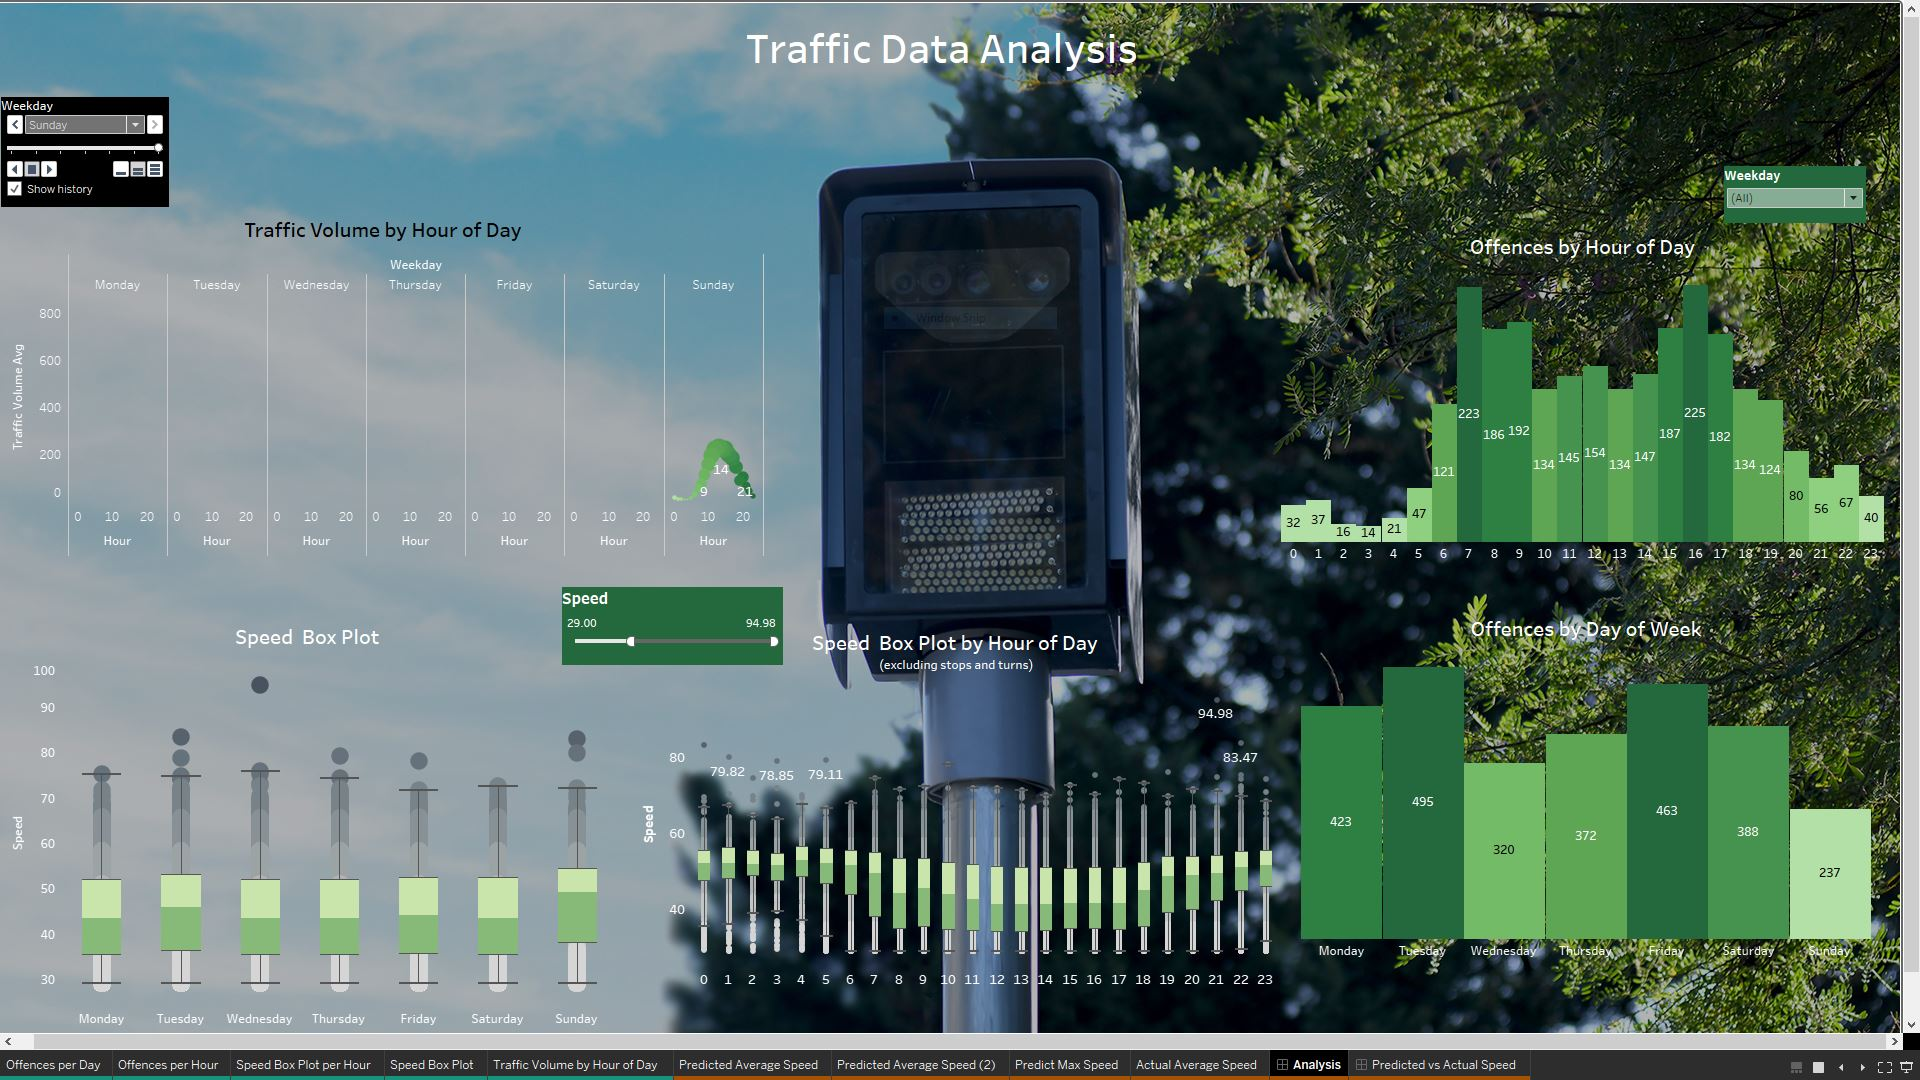

The dashboard page shown, as its layout file describes it:
{"tool":"tableau","page":{"name":"Analysis","canvas":[1920,1080],"ordinal":0},"visuals":[{"type":"image","param":"C:/Users/aleja/Downloads/Halo.jpg","box":[0,0,1920,1080]},{"type":"text","box":[2,8,1914,77]},{"type":"currpage","title":"Traffic Volume by Hour of Day","box":[18,97,168,110]},{"type":"filter","title":"Offences per Day","param":"[federated.1v8q8oz029prp91fazk9s0vociy0].[none:Weekday:nk]","box":[1741,166,142,57]},{"type":"worksheet","title":"Traffic Volume by Hour of Day","mark":"Circle","rows":["Calculation_51509949693874183"],"cols":["Weekday","Hour"],"box":[19,211,762,346]},{"type":"worksheet","title":"Offences per Hour","mark":"Automatic","rows":["Fine"],"cols":["Hour"],"box":[1298,228,603,335]},{"type":"filter","title":"Speed Box Plot per Hour","param":"[federated.1v8q8oz029prp91fazk9s0vociy0].[none:Speed:qk]","box":[579,587,221,78]},{"type":"worksheet","title":"Offences per Day","mark":"Automatic","rows":["Fine"],"cols":["Weekday"],"box":[1318,610,570,350]},{"type":"worksheet","title":"Speed Box Plot ","mark":"Circle","rows":["Speed"],"cols":["Weekday"],"box":[19,618,615,410]},{"type":"worksheet","title":"Speed Box Plot per Hour","mark":"Circle","rows":["Speed"],"cols":["Hour"],"box":[649,624,646,365]}]}

Visuals, with their boxes on the page's 1920x1080 design canvas (x1, y1, x2, y2). These are canvas units, not pixel positions in the 1920x1080 screenshot, which may show the page scaled, cropped or inside an application window:
image: 0 0 1920 1080
text: 2 8 1916 85
"Traffic Volume by Hour of Day" currpage: 18 97 186 207
"Offences per Day" filter: 1741 166 1883 223
"Traffic Volume by Hour of Day" worksheet (Circle marks): 19 211 781 557
"Offences per Hour" worksheet: 1298 228 1901 563
"Speed Box Plot per Hour" filter: 579 587 800 665
"Offences per Day" worksheet: 1318 610 1888 960
"Speed Box Plot " worksheet (Circle marks): 19 618 634 1028
"Speed Box Plot per Hour" worksheet (Circle marks): 649 624 1295 989
